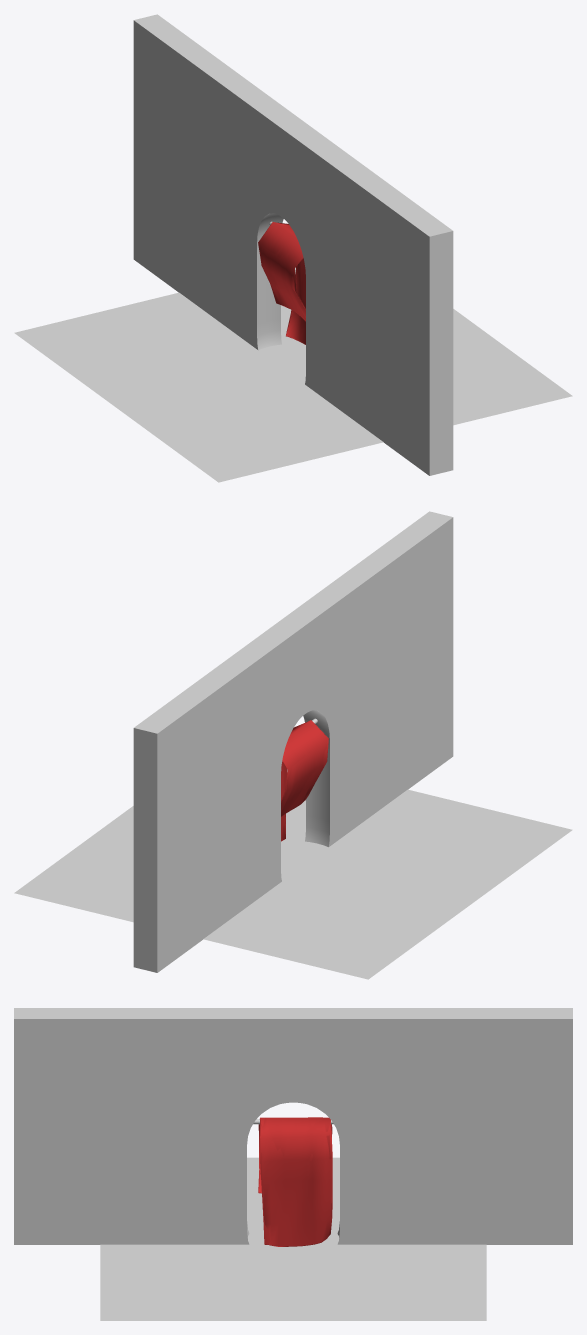
The model's file is Cloth Door.fbx.
3 views of the same model, one above another, from view 1: azimuth 30°, elevation 25°; view 2: azimuth 150°, elevation 25°; view 3: azimuth 270°, elevation 25° (orthographic). The views are drawn at different scales.
Parts seen in each view (by area): view 1: Cube_2, Plane, Cube, Capsule_2; view 2: Cube_2, Plane, Cube, Capsule_2; view 3: Cube_2, Plane, Cube.
Boxes of the visible parts, box(x1,y1,x2,y2) form: Cube_2: box(133, 14, 453, 475); Plane: box(14, 267, 572, 482); Cube: box(258, 222, 305, 344); Capsule_2: box(257, 213, 283, 349); Cube_2: box(133, 511, 453, 972); Plane: box(14, 769, 572, 979); Cube: box(281, 720, 328, 841); Capsule_2: box(303, 710, 329, 846); Cube_2: box(14, 1008, 572, 1244); Plane: box(100, 1157, 486, 1320); Cube: box(258, 1117, 332, 1246).
Bounding box in the file's own units: 400 × 258 × 578.
